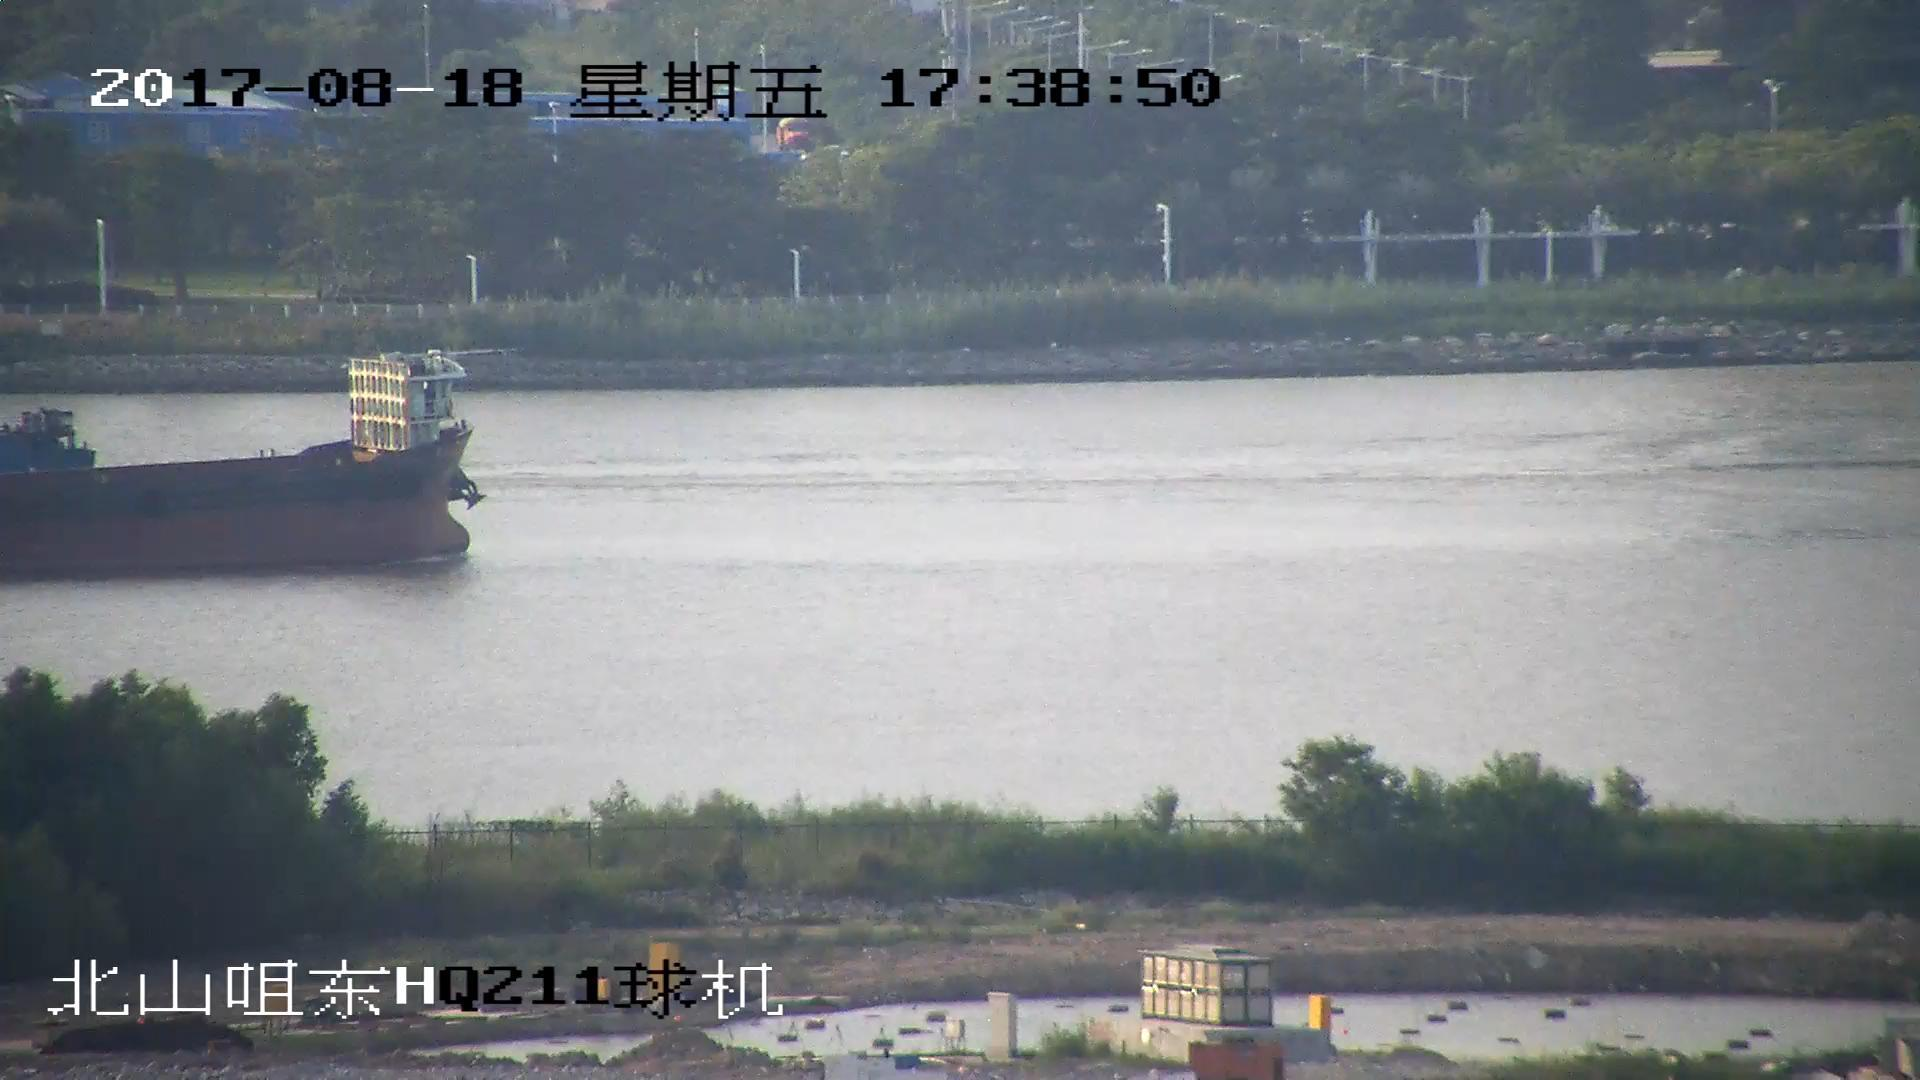Ship: (3, 355, 484, 564)
